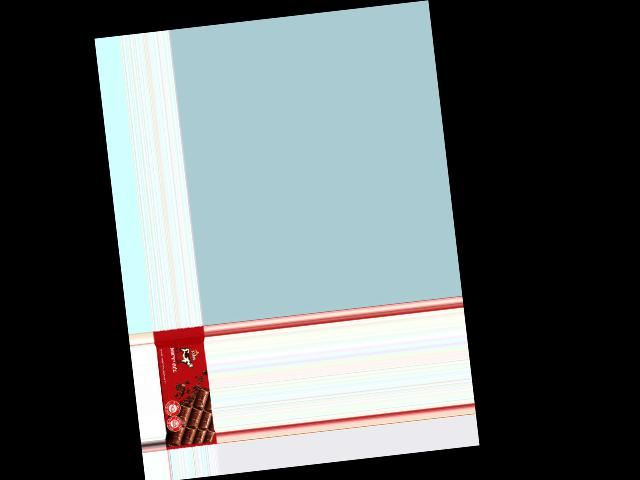chocolate: (152, 327, 216, 449)
